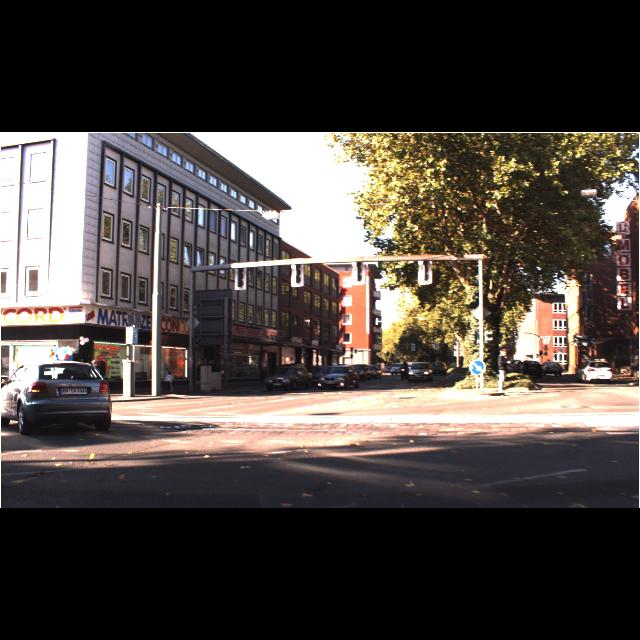mandatory: (469, 360, 485, 376)
